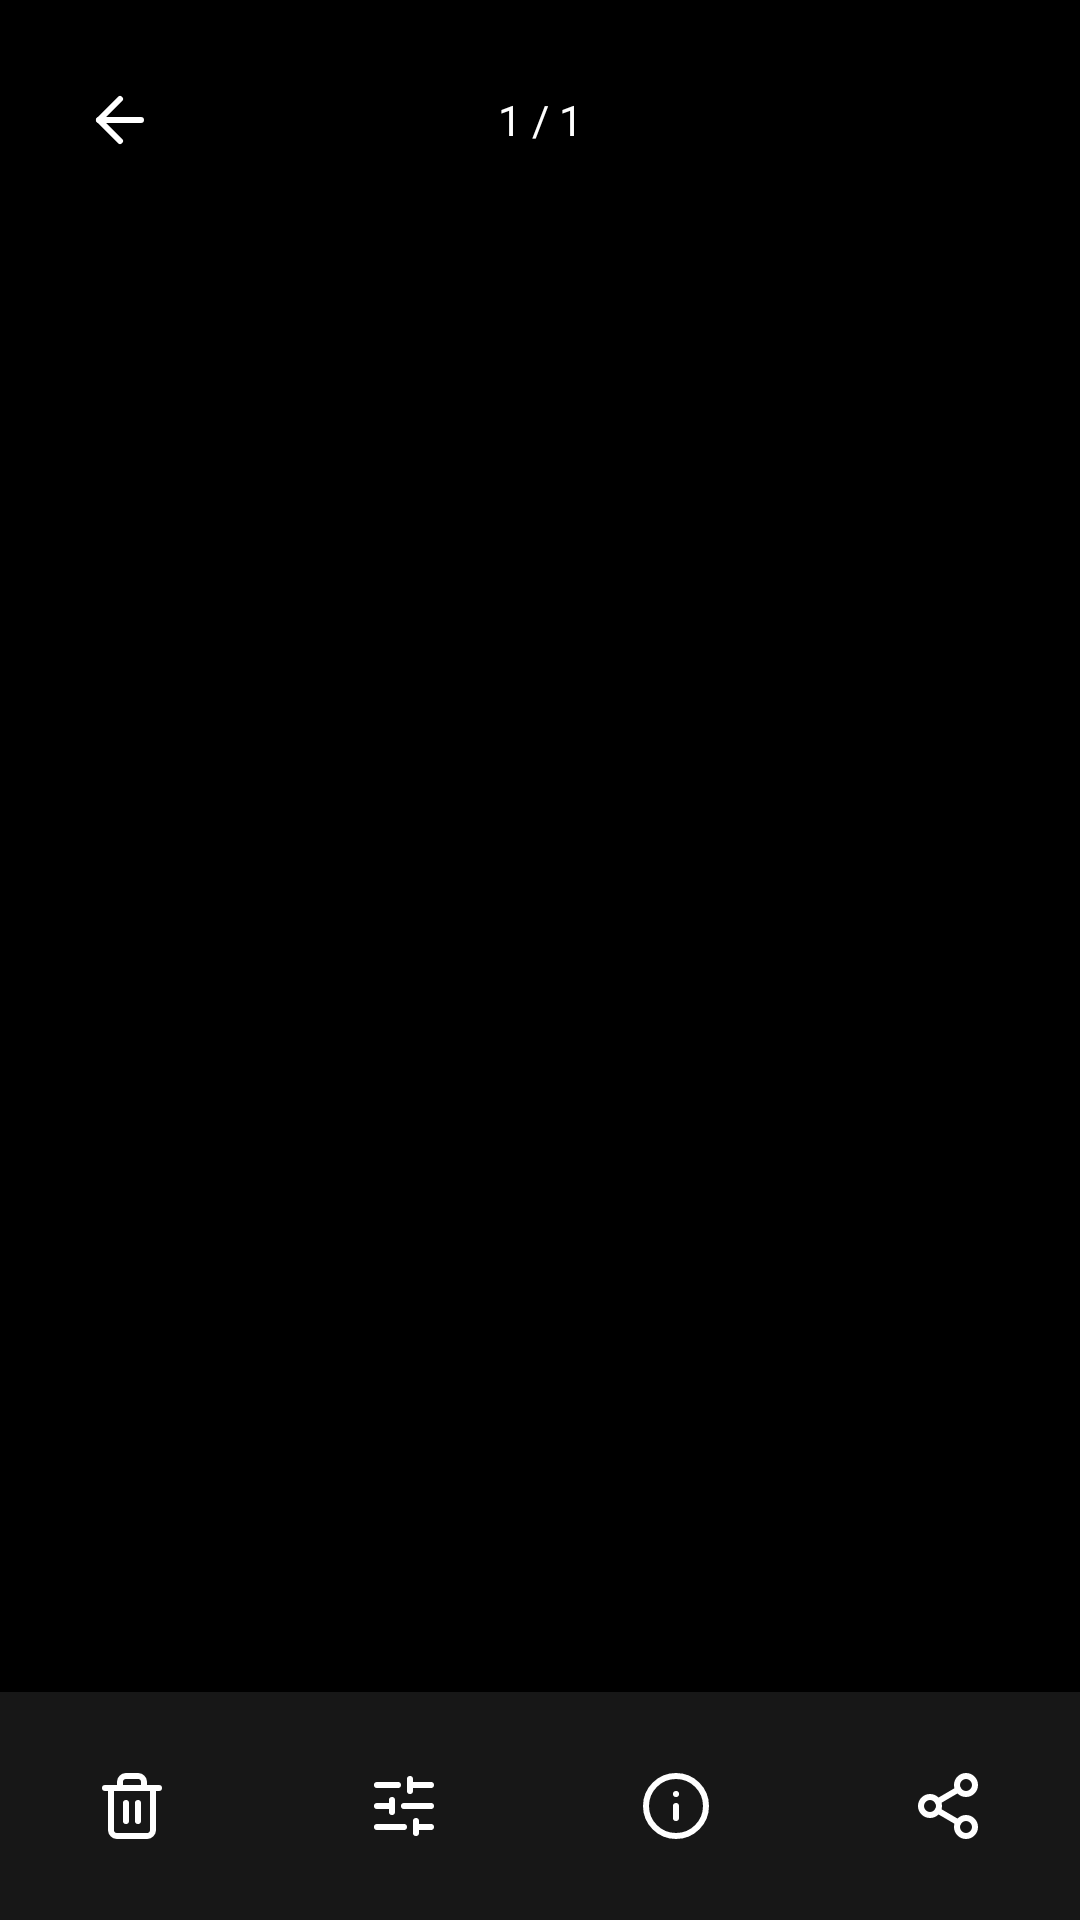

Icons on this 1080 × 1920 Android screen, each with its box as (x1, y1, x2, y2):
Close photo: (96, 96, 144, 144)
Delete photo: (102, 1773, 162, 1839)
Edit photo: (374, 1776, 434, 1836)
Photo details: (643, 1773, 709, 1839)
Share photo: (918, 1773, 978, 1839)
